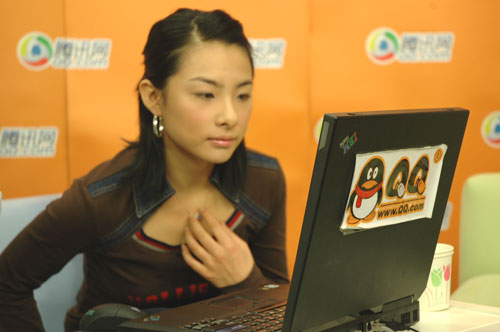other: (14, 7, 290, 328)
